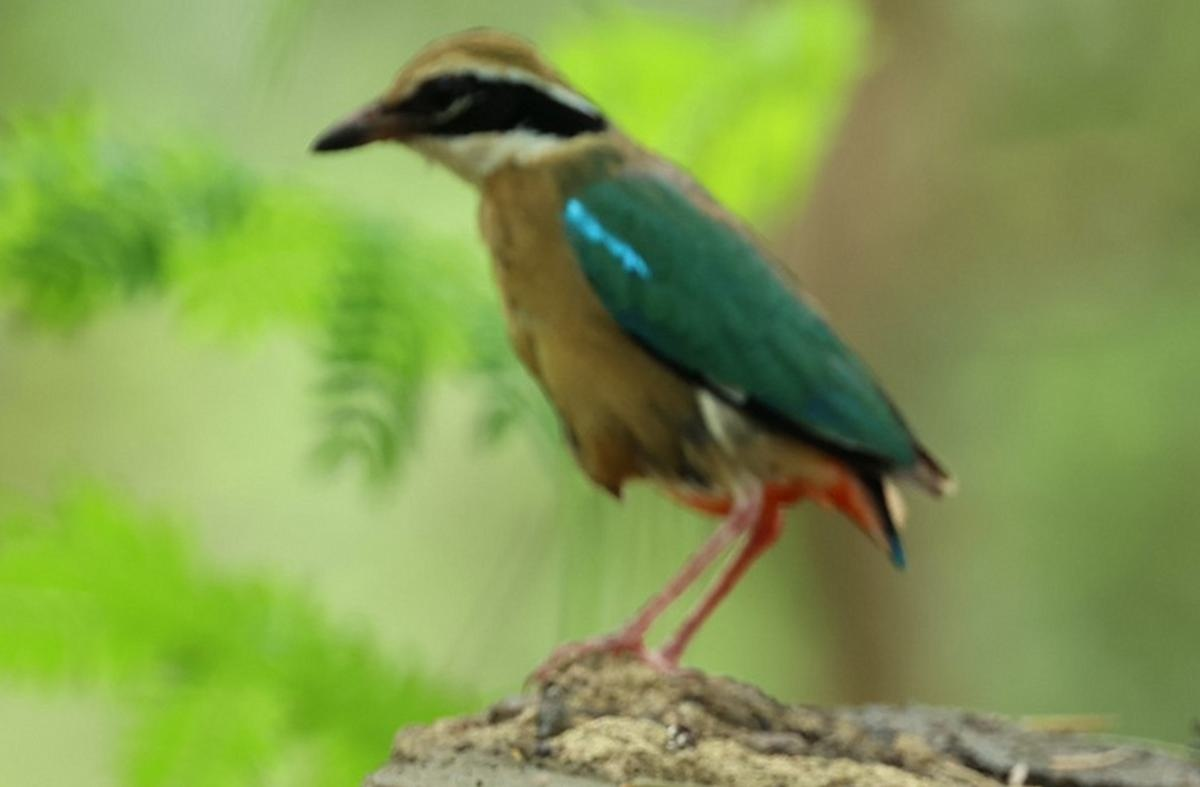pitta: (290, 25, 1039, 787)
